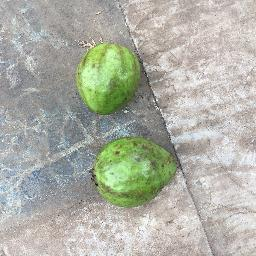Good_guava: (90, 136, 181, 209), (73, 38, 147, 118)
